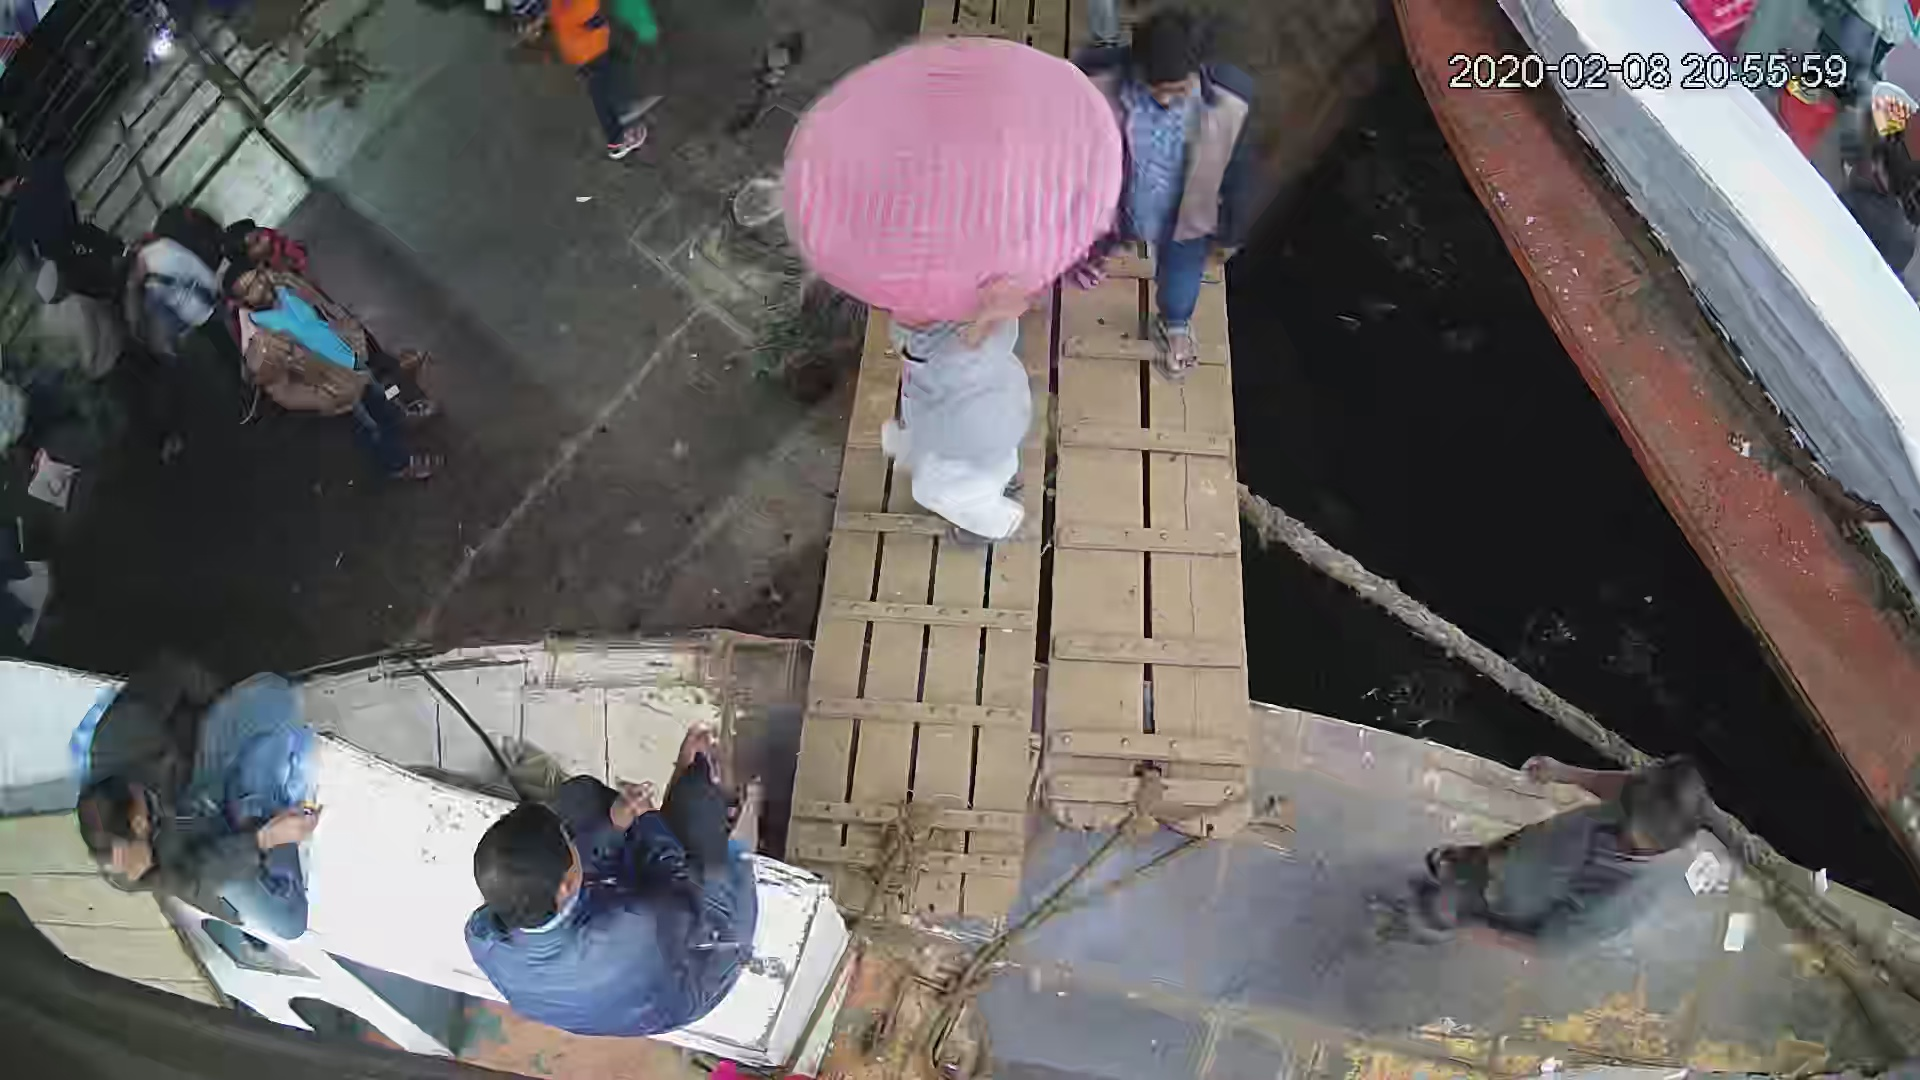person: (758, 29, 1123, 548), (468, 727, 765, 1037), (1357, 729, 1715, 965), (70, 654, 320, 937), (1079, 7, 1258, 361), (229, 268, 444, 489), (546, 1, 673, 163)
